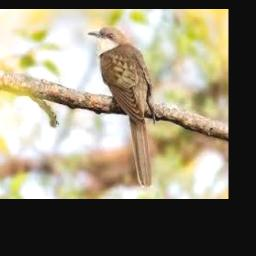Cuckoo: (87, 26, 154, 188)
